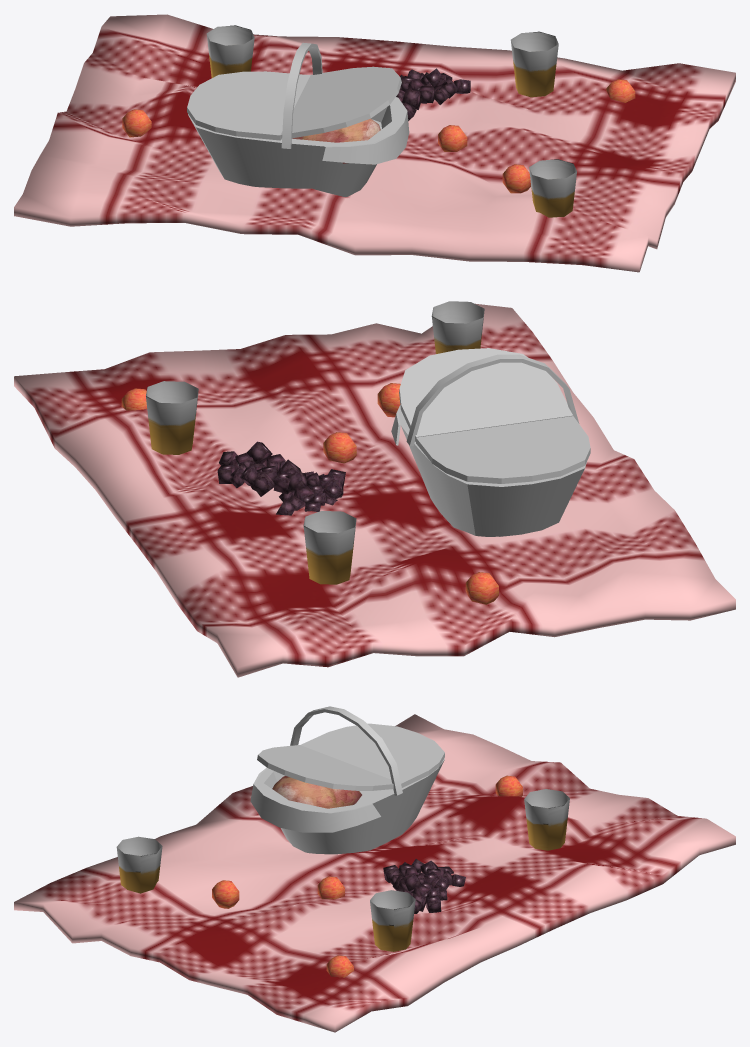
Rendered from picnic.fbx.
3 renders of one model, top to bottom at view 1: azimuth 30°, elevation 25°; view 2: azimuth 150°, elevation 25°; view 3: azimuth 270°, elevation 25°, orthographic. The views are drawn at different scales.
Parts seen in each view (by area): view 1: Plane, basket, juice02, oranges, Juice01, juice03, Grape, bread; view 2: Plane, basket, juice03, juice02, oranges, Grape, Juice01, Grape01; view 3: Plane, basket, juice03, juice02, oranges, Juice01, bread, Grape, Grape01.
Part boxes in pixels (x1,y1,x2,y2): Plane: [14, 14, 735, 272]; basket: [187, 42, 409, 196]; juice02: [510, 31, 558, 97]; oranges: [122, 79, 635, 193]; Juice01: [529, 159, 576, 217]; juice03: [206, 25, 254, 77]; Grape: [396, 68, 470, 109]; bread: [292, 118, 380, 164]; Plane: [14, 303, 735, 677]; basket: [391, 348, 590, 536]; juice03: [303, 511, 356, 584]; juice02: [146, 381, 198, 454]; oranges: [121, 383, 498, 604]; Grape: [217, 441, 301, 496]; Juice01: [431, 301, 484, 353]; Grape01: [276, 469, 345, 515]; Plane: [14, 714, 735, 1032]; basket: [250, 706, 444, 854]; juice03: [524, 789, 569, 850]; juice02: [370, 890, 415, 951]; oranges: [212, 775, 522, 977]; Juice01: [116, 836, 162, 893]; bread: [272, 776, 361, 808]; Grape: [398, 868, 449, 913]; Grape01: [383, 859, 465, 890].
Bounding box in the file's own units: 347 × 72.04 × 341.
